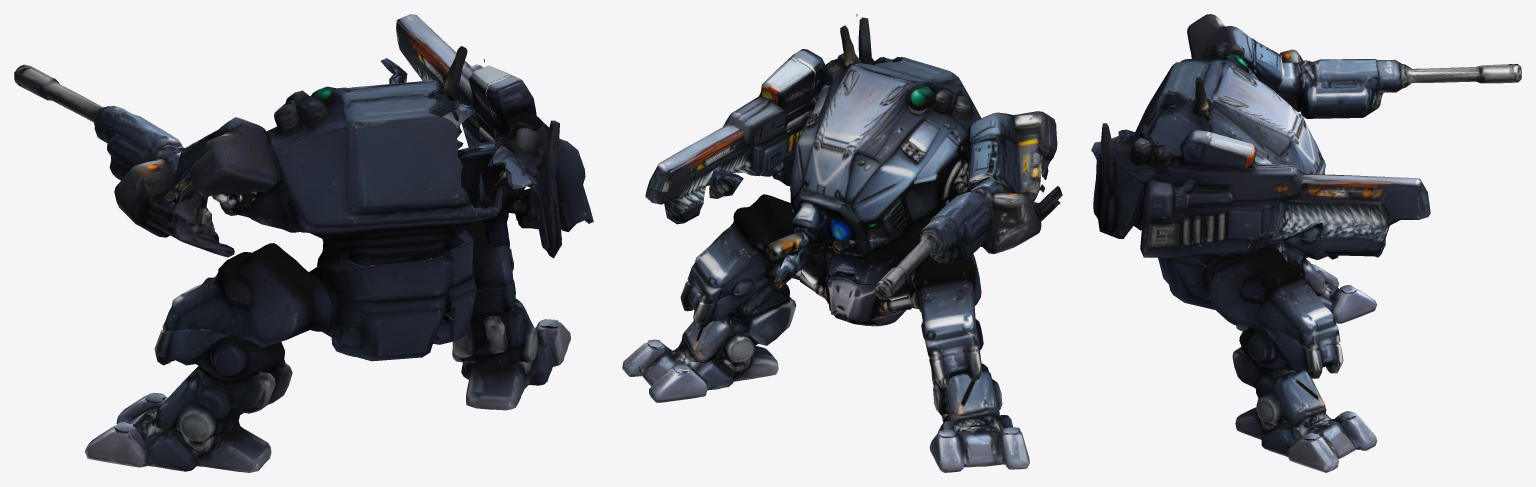
File: hero_m4.glb
3 renders of one model, left to right at view 1: azimuth 30°, elevation 25°; view 2: azimuth 150°, elevation 25°; view 3: azimuth 270°, elevation 25°, orthographic. The views are drawn at different scales.
Parts seen in each view (by area): view 1: hull, weapon_r, pelvis, weapon_l, shin_l, thigh_l, foot_l, shin_r, foot_r, thigh_r; view 2: hull, weapon_r, weapon_l, pelvis, shin_r, thigh_r, thigh_l, foot_r, shin_l, foot_l; view 3: weapon_r, hull, weapon_l, thigh_r, shin_r, foot_r, pelvis, foot_l, shin_l.
Boxes of the visible parts, <box> form: hull: <box>162,46,538,266</box>; weapon_r: <box>380,14,593,258</box>; pelvis: <box>309,225,477,361</box>; weapon_l: <box>14,64,234,257</box>; shin_l: <box>114,328,355,441</box>; thigh_l: <box>162,243,331,346</box>; foot_l: <box>85,395,271,472</box>; shin_r: <box>452,248,559,366</box>; foot_r: <box>452,321,570,410</box>; thigh_r: <box>456,221,513,291</box>; hull: <box>767,14,1057,256</box>; weapon_r: <box>645,17,893,224</box>; weapon_l: <box>875,177,1062,299</box>; pelvis: <box>773,217,932,322</box>; shin_r: <box>647,277,846,373</box>; thigh_r: <box>687,194,801,304</box>; thigh_l: <box>909,254,981,360</box>; foot_r: <box>622,342,778,402</box>; shin_l: <box>845,307,1020,438</box>; foot_l: <box>929,412,1029,472</box>; weapon_r: <box>1091,123,1430,257</box>; hull: <box>1135,14,1325,267</box>; weapon_l: <box>1276,49,1521,118</box>; thigh_r: <box>1209,248,1340,350</box>; shin_r: <box>1232,326,1356,441</box>; foot_r: <box>1235,407,1377,472</box>; pelvis: <box>1158,223,1322,309</box>; foot_l: <box>1236,267,1377,331</box>; shin_l: <box>1283,237,1356,296</box>.
Size of the model in its own units: 4.07 by 3.22 by 3.87.
1 material, 1 textured.
